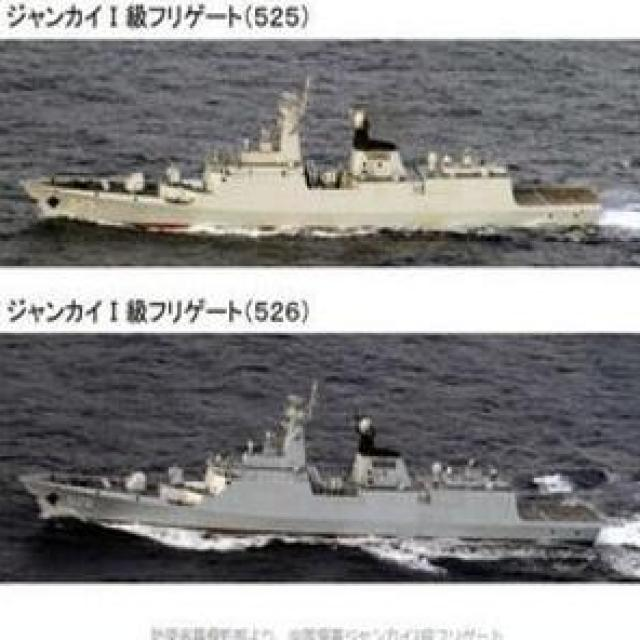navalvessels: (44, 75, 632, 262), (1, 388, 635, 559)
